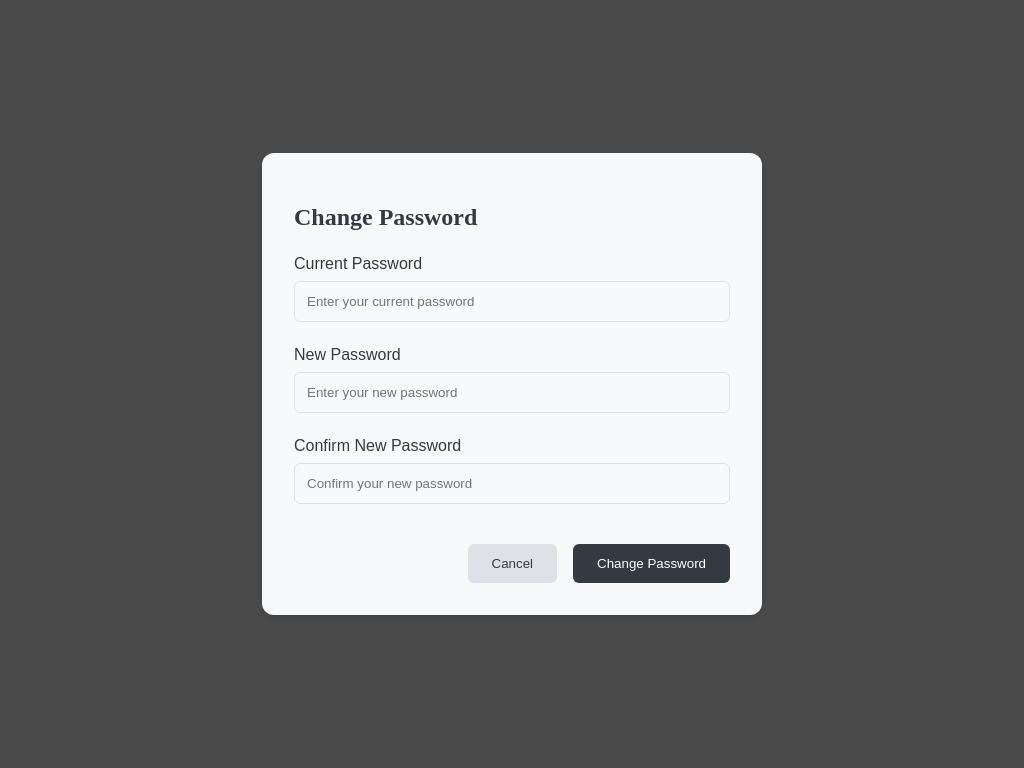
Scenario: ChangePassword Modal › validates password requirements
Type "oldpass" into the password field with test id "current-password-input" at x=512, y=303, box [294,282,730,323]
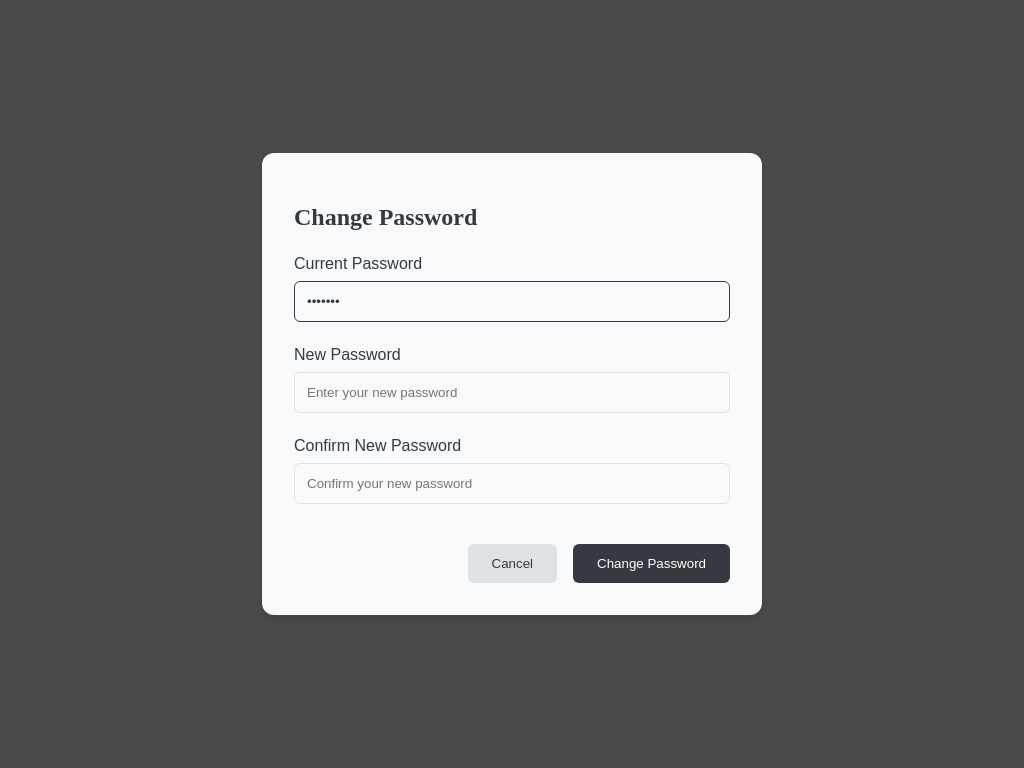
Type "short" into the password field with test id "new-password-input" at x=512, y=394, box [294,373,730,414]
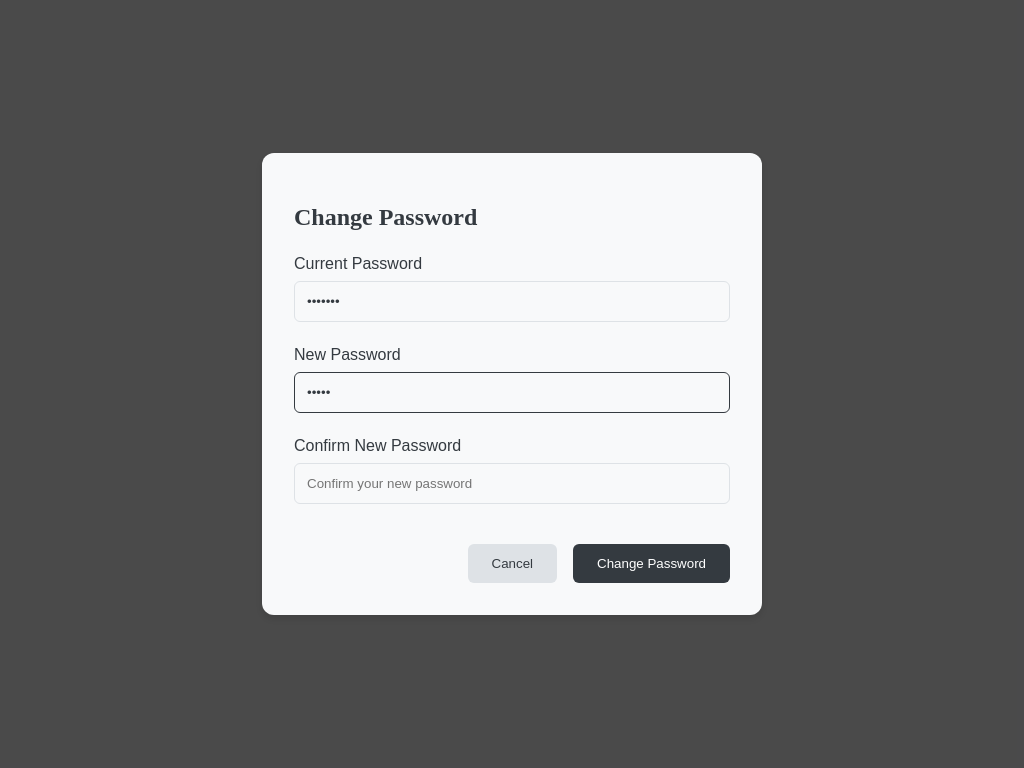
Type "short" into the password field with test id "confirm-password-input" at x=512, y=485, box [294,464,730,505]
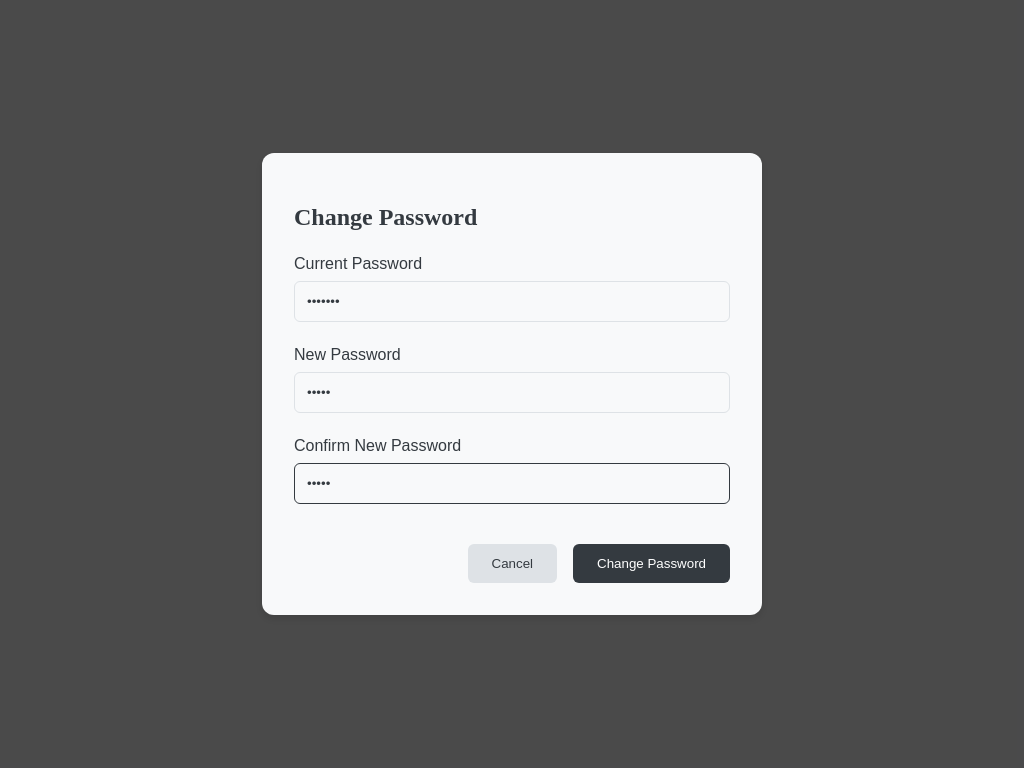
Click the button with test id "change-password-save" at x=652, y=565, box [573,545,730,584]
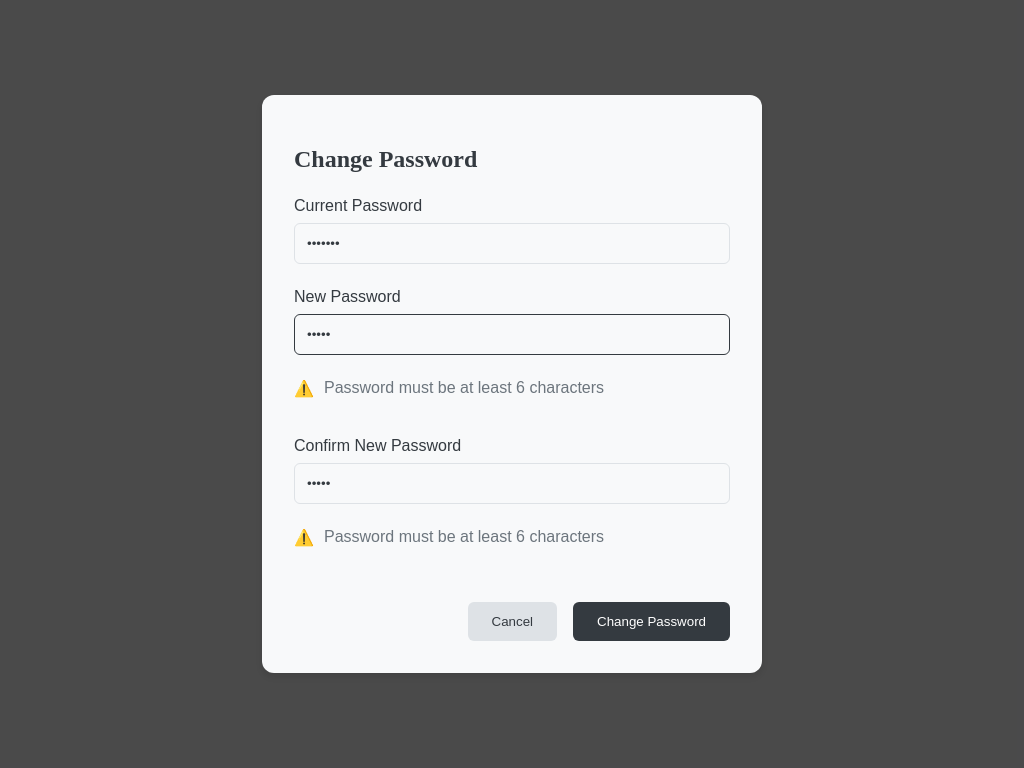
Expected: the text with test id "error-message" reads "Password must be at least 6 characters", [324,379,604,396]
